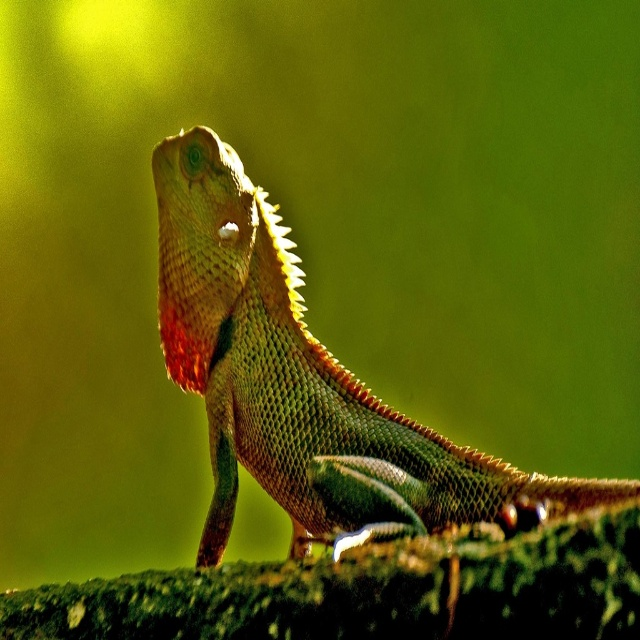Lizard: (164, 115, 600, 581)
